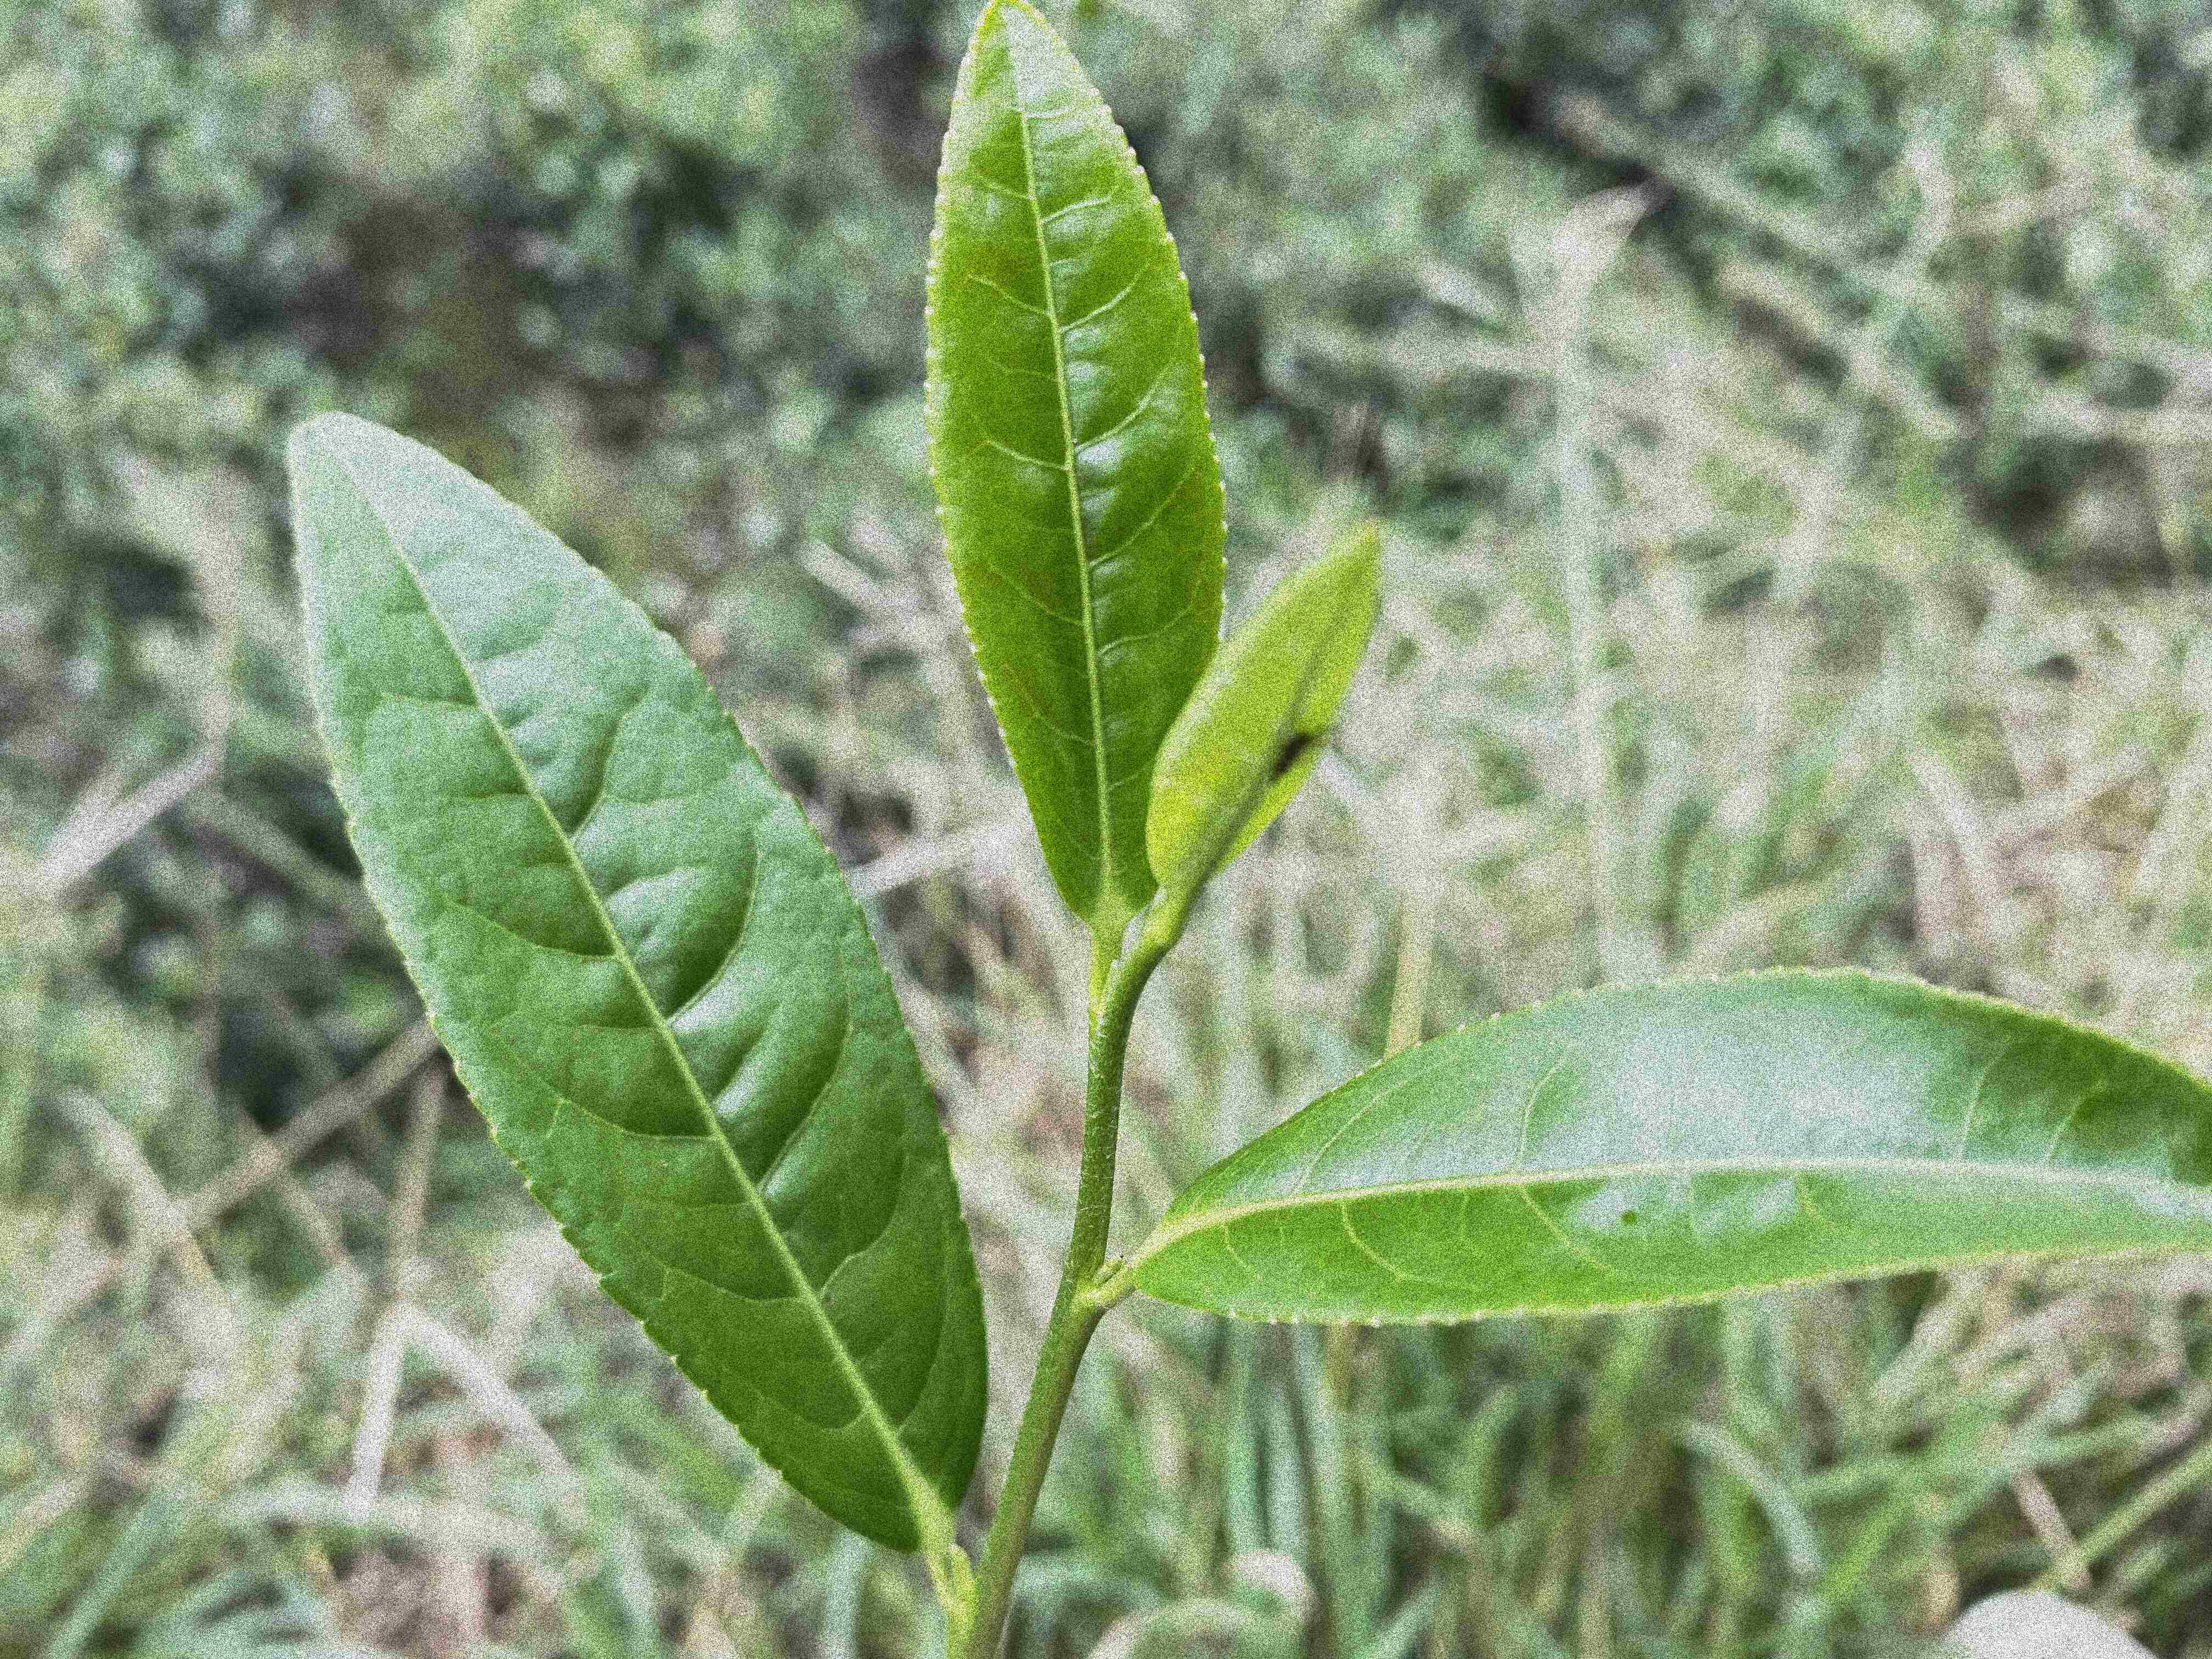healthy: (280, 415, 991, 1544), (1134, 960, 2209, 1330), (921, 3, 1231, 922)
